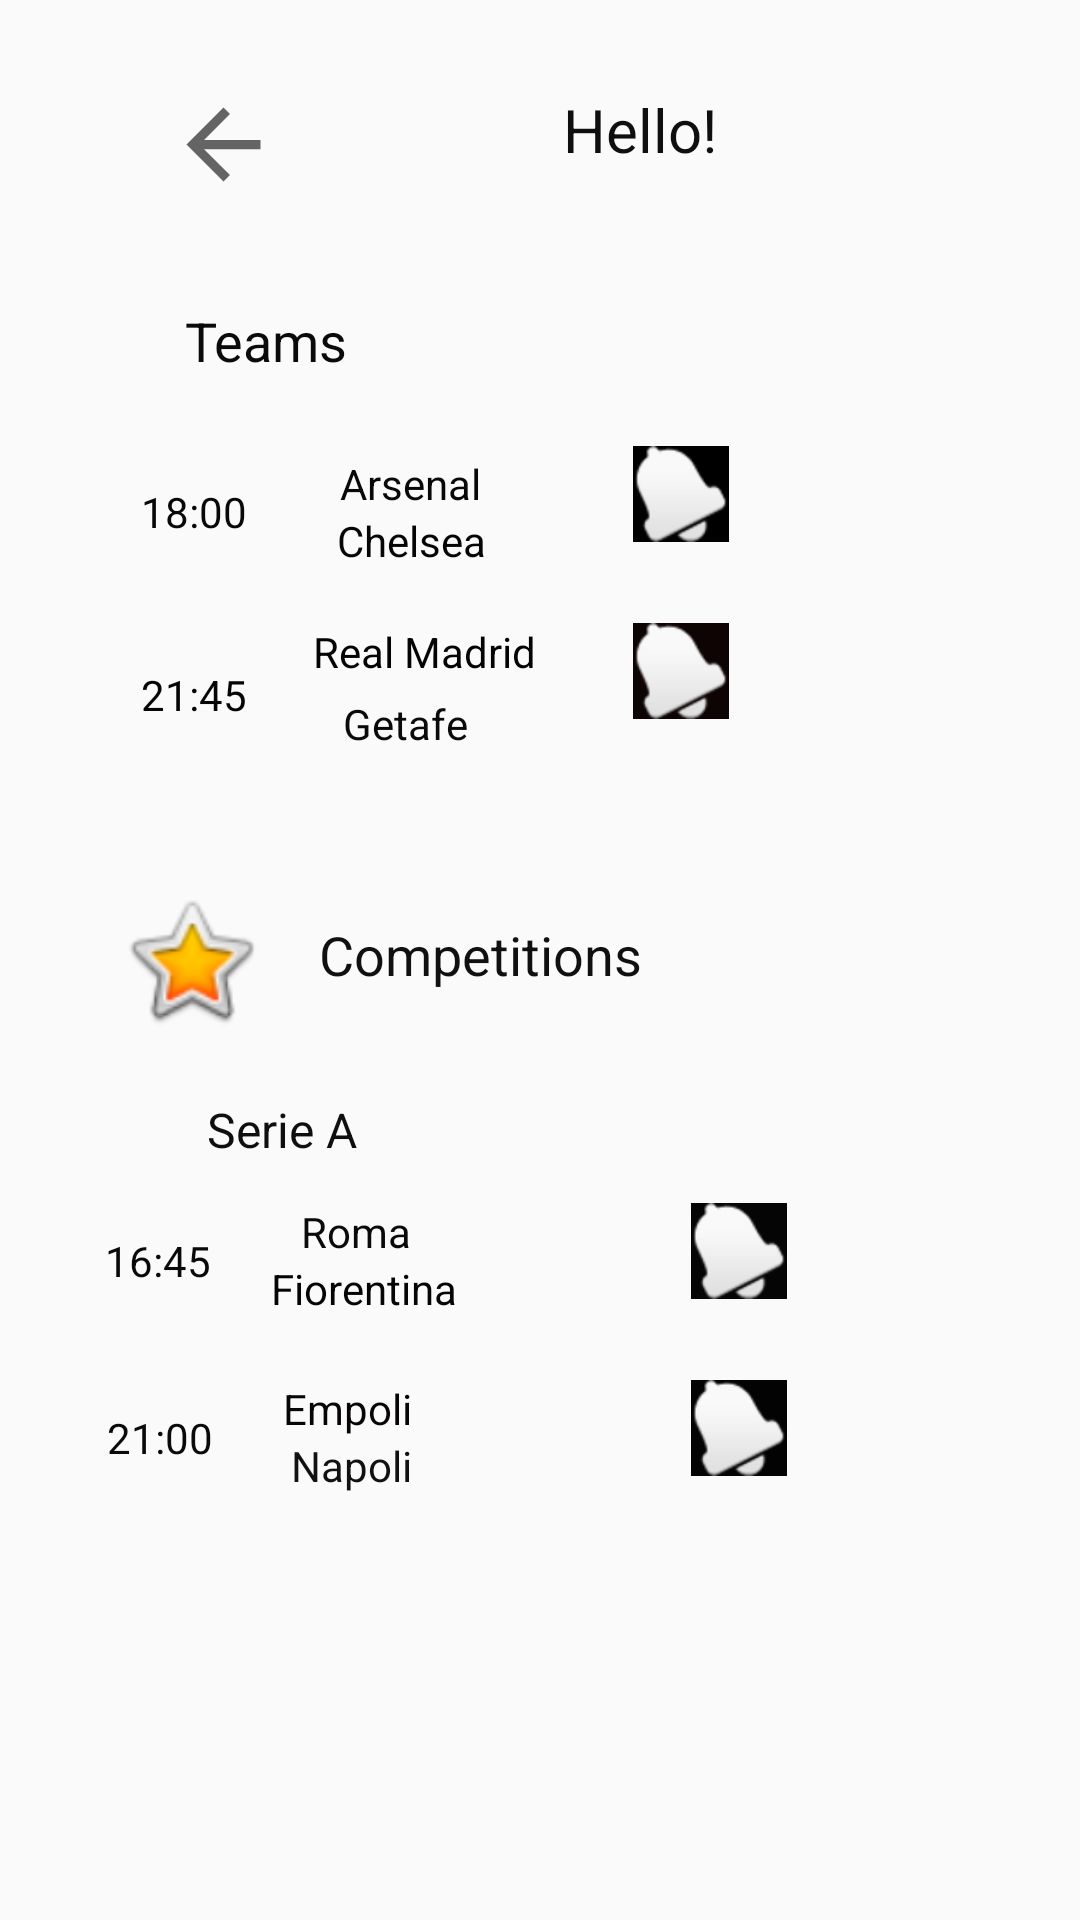

Screen size 1080px×1920px. Icon name, then its box in pixels as (x1, y1, x2, y2):
popup reminder: (633, 446, 729, 542), (633, 623, 729, 719), (691, 1203, 787, 1299), (691, 1380, 787, 1476)
star on: (131, 902, 254, 1021)
